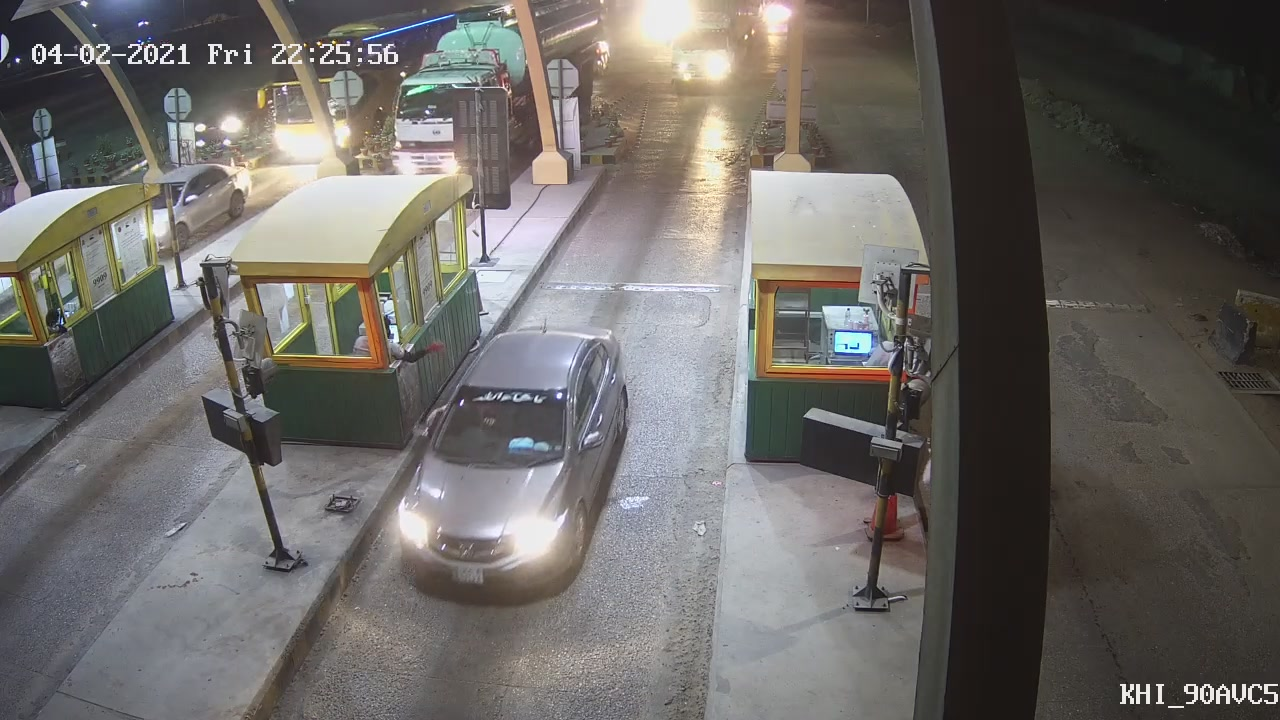F1: (392, 321, 633, 595)
